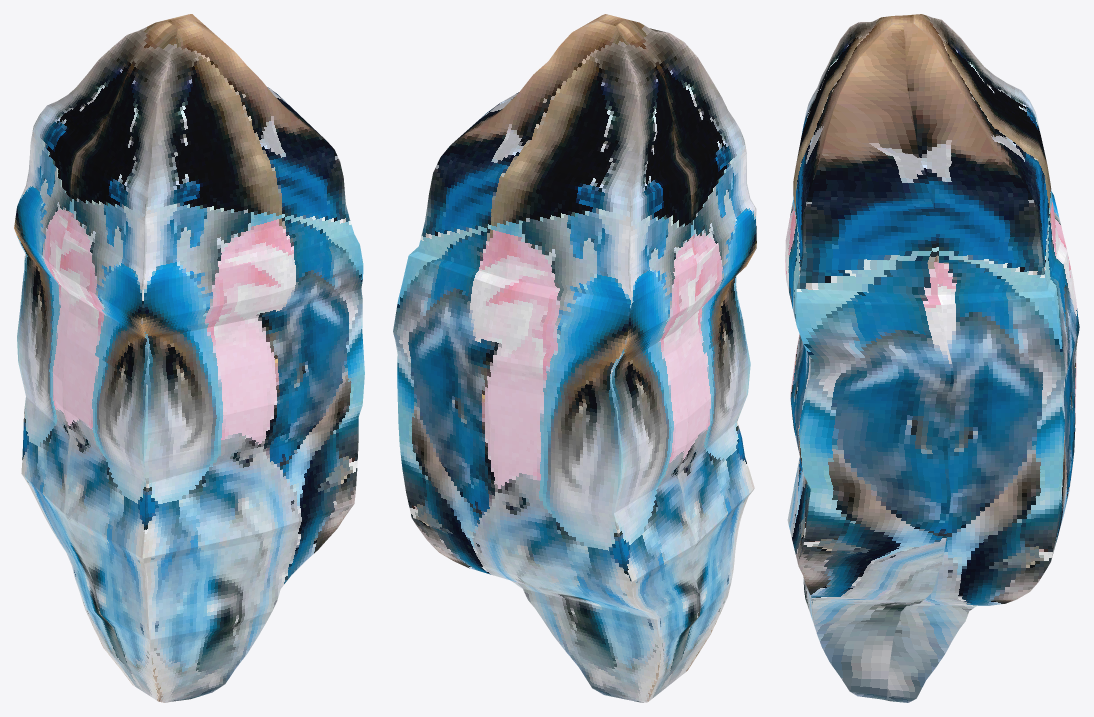
File: metamorphosis_v21_t.glb
3 renders of one model, left to right at view 1: azimuth 30°, elevation 25°; view 2: azimuth 150°, elevation 25°; view 3: azimuth 270°, elevation 25°, orthographic. The views are drawn at different scales.
Visible parts, largest first — view 1: Cube; view 2: Cube; view 3: Cube.
Part boxes in pixels (x1,y1,x2,y2): Cube: (14, 14, 364, 702); Cube: (393, 14, 756, 702); Cube: (785, 14, 1079, 702).
Bounding box in the file's own units: 1.1 × 2.82 × 1.1.
1 material, 1 textured.
